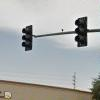Traffic light: (17, 12, 91, 59)
